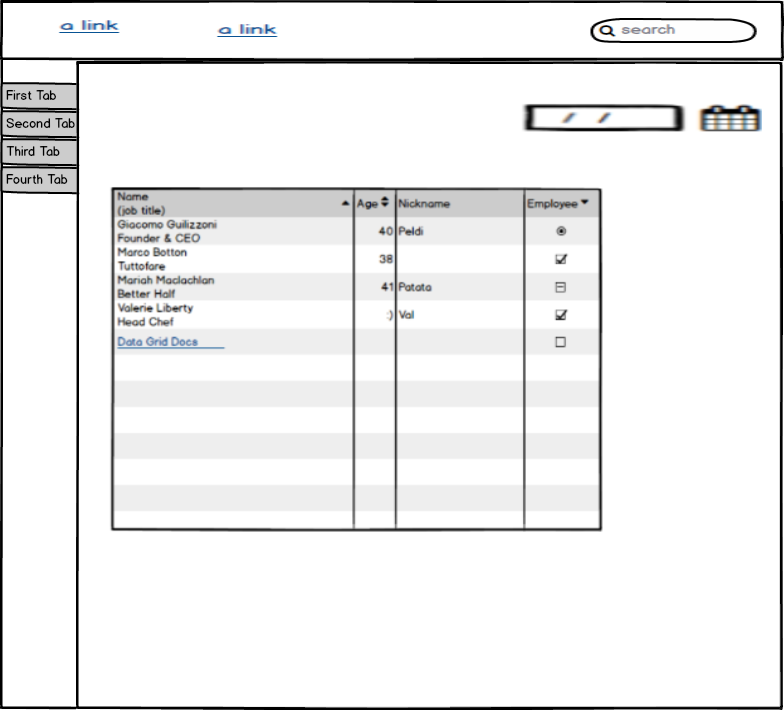date_picker: (512, 94, 768, 141)
navlink: (209, 16, 289, 43), (52, 13, 131, 38)
search: (582, 16, 761, 47)
sidebar: (1, 74, 81, 200)
table: (105, 184, 610, 536)
